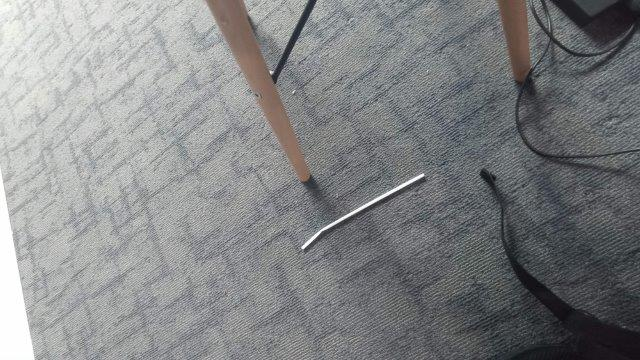sedotan: (302, 175, 424, 249)
